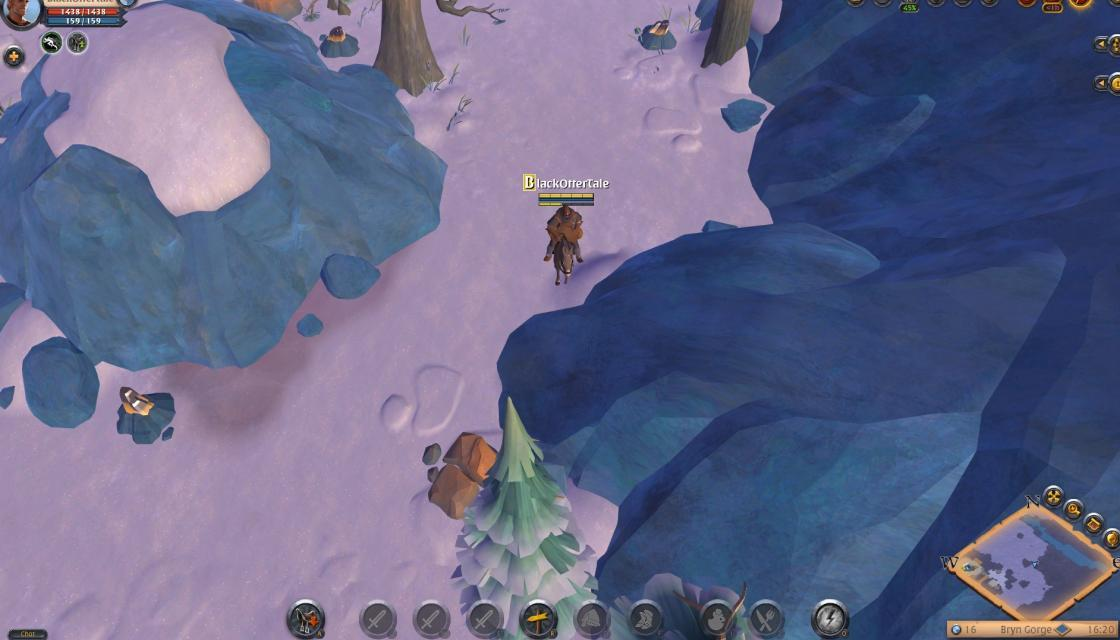copperore: (112, 384, 180, 448), (316, 23, 359, 62), (638, 13, 676, 52)
limestone: (422, 428, 499, 516), (236, 0, 303, 25)
